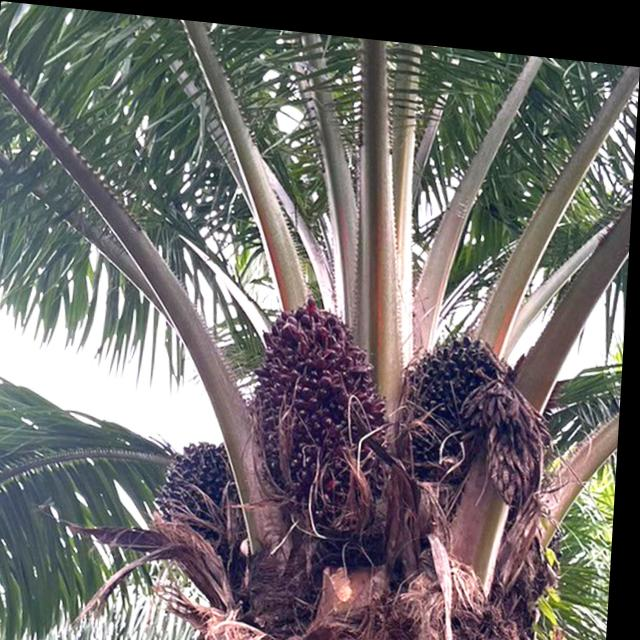ripe: (238, 271, 410, 526)
